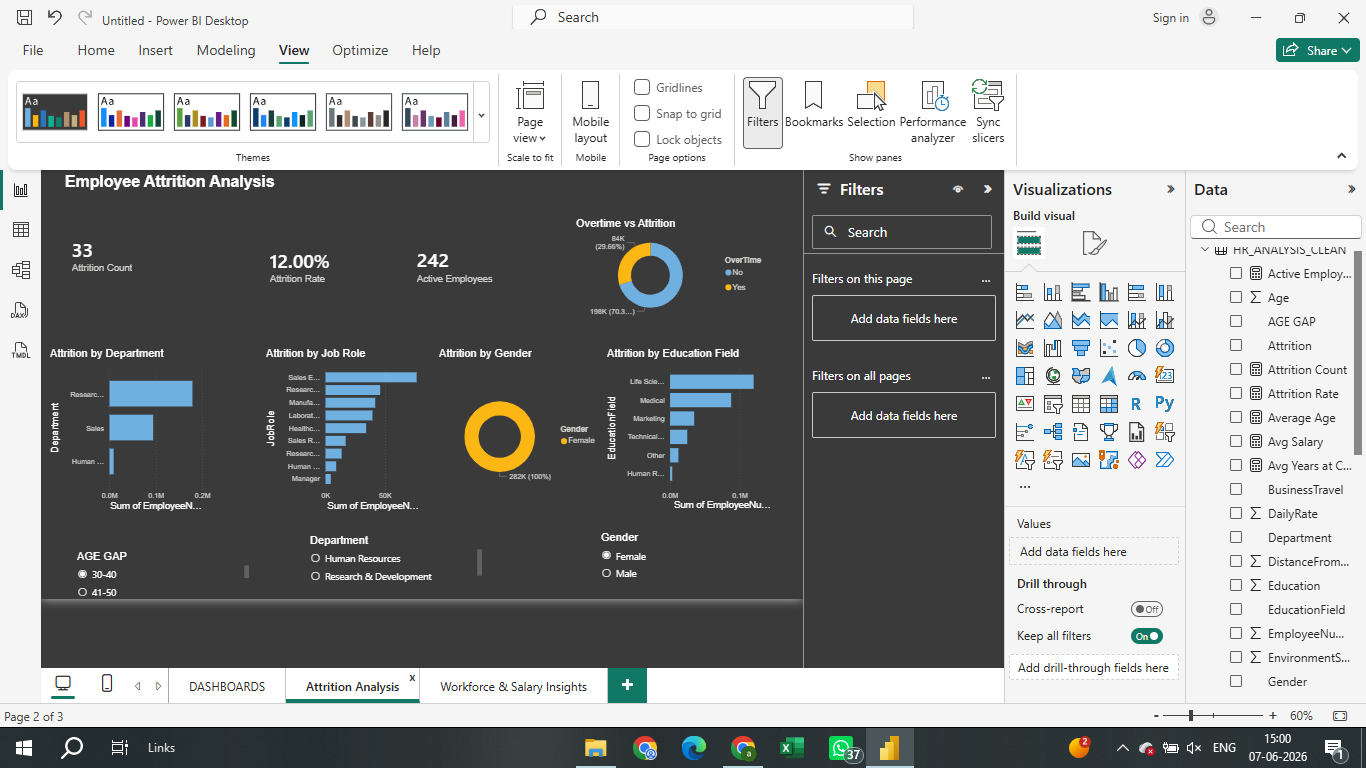

The page's visual inventory and layout, read from the dashboard file:
{"tool":"powerbi","page":{"name":"Attrition Analysis","canvas":[1280,720],"ordinal":1},"visuals":[{"type":"cardVisual","fields":{"Data":["HR_ANALYSIS_CLEAN.Attrition Count"]},"box":[21.8,79,255.3,126],"z":0},{"type":"cardVisual","fields":{"Data":["HR_ANALYSIS_CLEAN.Attrition Rate"]},"box":[354.4,79,216.7,161.3],"z":1},{"type":"cardVisual","fields":{"Data":["HR_ANALYSIS_CLEAN.Active Employees"]},"box":[601.4,85.7,243.6,147.8],"z":2},{"type":"clusteredBarChart","title":"Attrition by Department","fields":{"Category":["HR_ANALYSIS_CLEAN.Department"],"Y":["Sum(HR_ANALYSIS_CLEAN.EmployeeNumber)"]},"box":[10,297,280,280],"z":3},{"type":"clusteredBarChart","title":"Attrition by Job Role","fields":{"Y":["Sum(HR_ANALYSIS_CLEAN.EmployeeNumber)"],"Category":["HR_ANALYSIS_CLEAN.JobRole"]},"box":[373,297,281,280],"z":4},{"type":"donutChart","title":"Attrition by Gender","fields":{"Category":["HR_ANALYSIS_CLEAN.Gender"],"Y":["Sum(HR_ANALYSIS_CLEAN.EmployeeNumber)"]},"box":[664,297,281,280],"z":5},{"type":"clusteredBarChart","title":"Attrition by Education Field","fields":{"Category":["HR_ANALYSIS_CLEAN.EducationField"],"Y":["Sum(HR_ANALYSIS_CLEAN.EmployeeNumber)"]},"box":[945.7,297.3,305.7,278.8],"z":6},{"type":"donutChart","title":"Overtime vs Attrition","fields":{"Category":["HR_ANALYSIS_CLEAN.OverTime"],"Y":["Sum(HR_ANALYSIS_CLEAN.EmployeeNumber)"]},"box":[893.6,79,341,174.7],"z":7},{"type":"listSlicer","fields":{"Values":["HR_ANALYSIS_CLEAN.Department"]},"box":[446.8,611.4,299,94.1],"z":8},{"type":"listSlicer","fields":{"Values":["HR_ANALYSIS_CLEAN.Gender"]},"box":[935.6,606.4,299,104.1],"z":9},{"type":"listSlicer","fields":{"Values":["HR_ANALYSIS_CLEAN.AGE GAP"]},"box":[55.4,638.3,299,82.3],"z":10},{"type":"textbox","box":[35.3,0,411.5,79],"z":11}]}

Visuals, with their boxes on the page's 1280x720 design canvas (x1, y1, x2, y2). These are canvas units, not pixel positions in the 1366x768 screenshot, which may show the page scaled, cropped or inside an application window:
cardVisual - HR_ANALYSIS_CLEAN.Attrition Count: {"left": 22, "top": 79, "right": 277, "bottom": 205}
cardVisual - HR_ANALYSIS_CLEAN.Attrition Rate: {"left": 354, "top": 79, "right": 571, "bottom": 240}
cardVisual - HR_ANALYSIS_CLEAN.Active Employees: {"left": 601, "top": 86, "right": 845, "bottom": 234}
"Attrition by Department" clusteredBarChart: {"left": 10, "top": 297, "right": 290, "bottom": 577}
"Attrition by Job Role" clusteredBarChart: {"left": 373, "top": 297, "right": 654, "bottom": 577}
"Attrition by Gender" donutChart: {"left": 664, "top": 297, "right": 945, "bottom": 577}
"Attrition by Education Field" clusteredBarChart: {"left": 946, "top": 297, "right": 1251, "bottom": 576}
"Overtime vs Attrition" donutChart: {"left": 894, "top": 79, "right": 1235, "bottom": 254}
listSlicer - HR_ANALYSIS_CLEAN.Department: {"left": 447, "top": 611, "right": 746, "bottom": 706}
listSlicer - HR_ANALYSIS_CLEAN.Gender: {"left": 936, "top": 606, "right": 1235, "bottom": 710}
listSlicer - HR_ANALYSIS_CLEAN.AGE GAP: {"left": 55, "top": 638, "right": 354, "bottom": 721}
textbox: {"left": 35, "top": 0, "right": 447, "bottom": 79}
